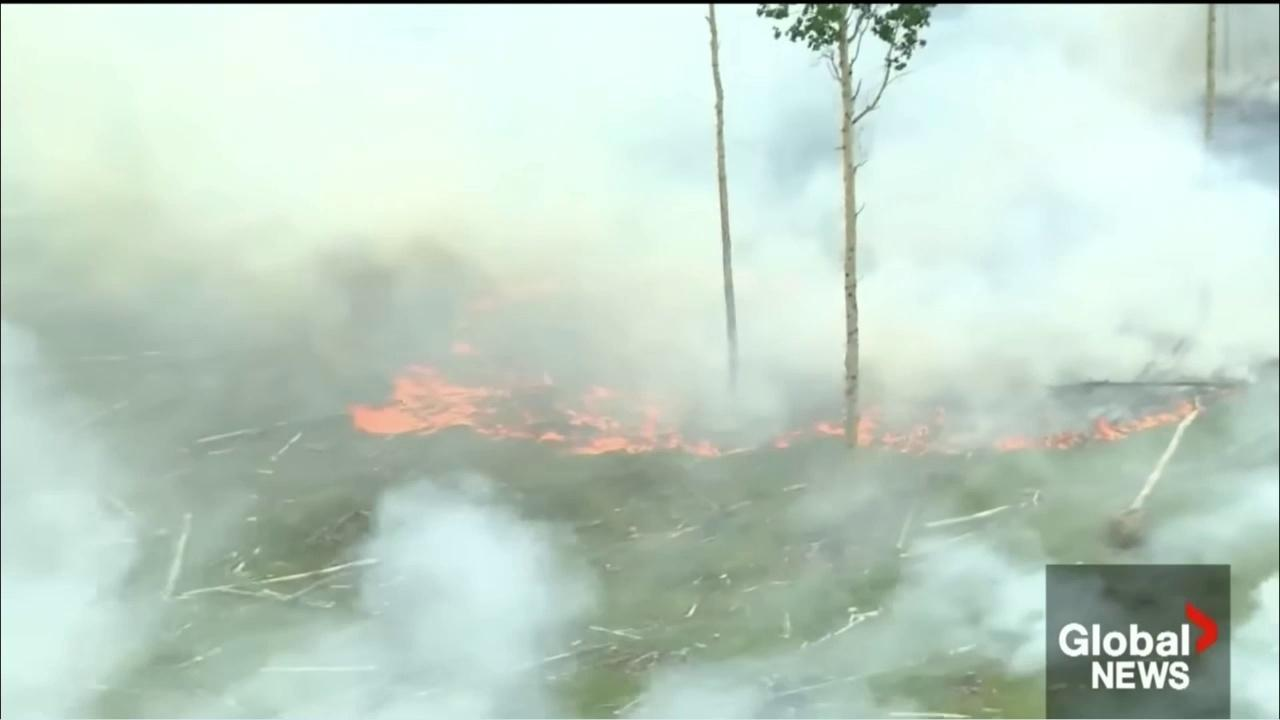fire: (340, 356, 739, 464), (815, 388, 1198, 457), (446, 340, 491, 358), (775, 429, 803, 453)
smoke: (1, 4, 1278, 720)
